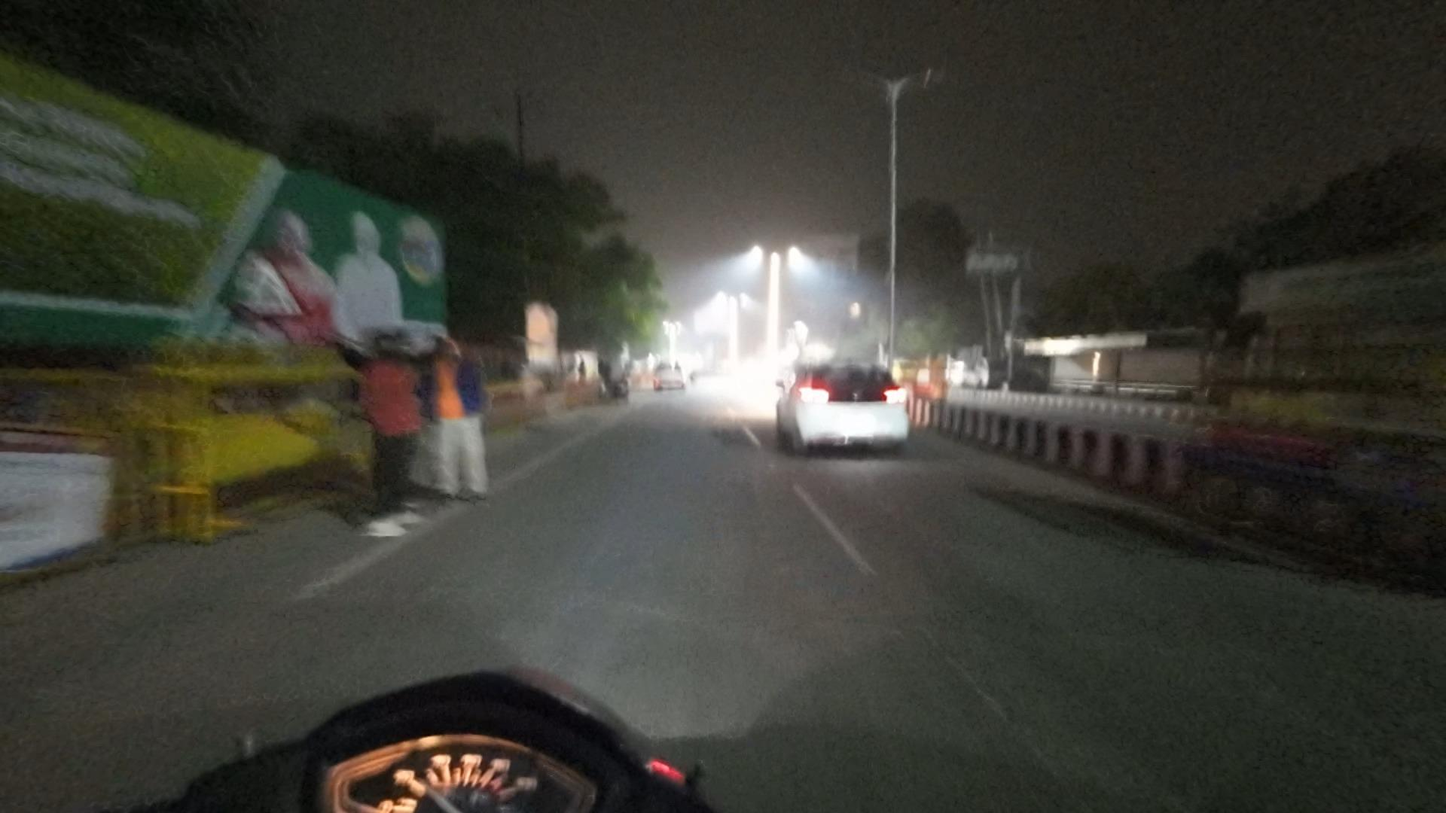streetlight: (833, 52, 885, 91), (905, 62, 947, 96)
